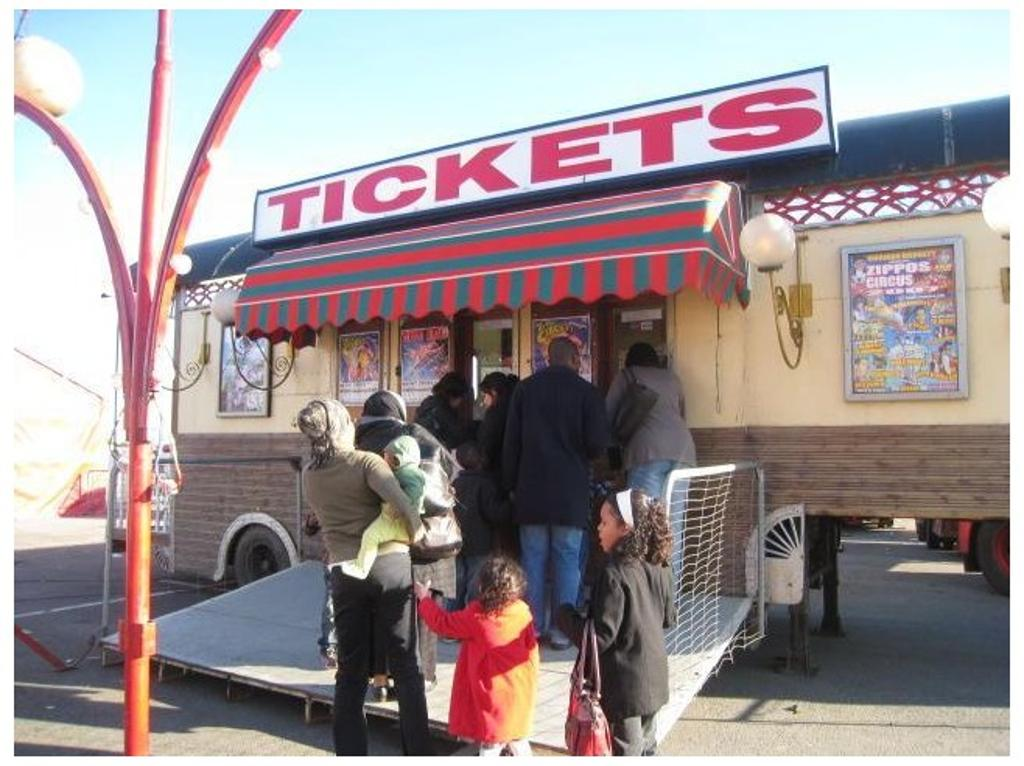face: (595, 501, 632, 552), (480, 383, 493, 406)
